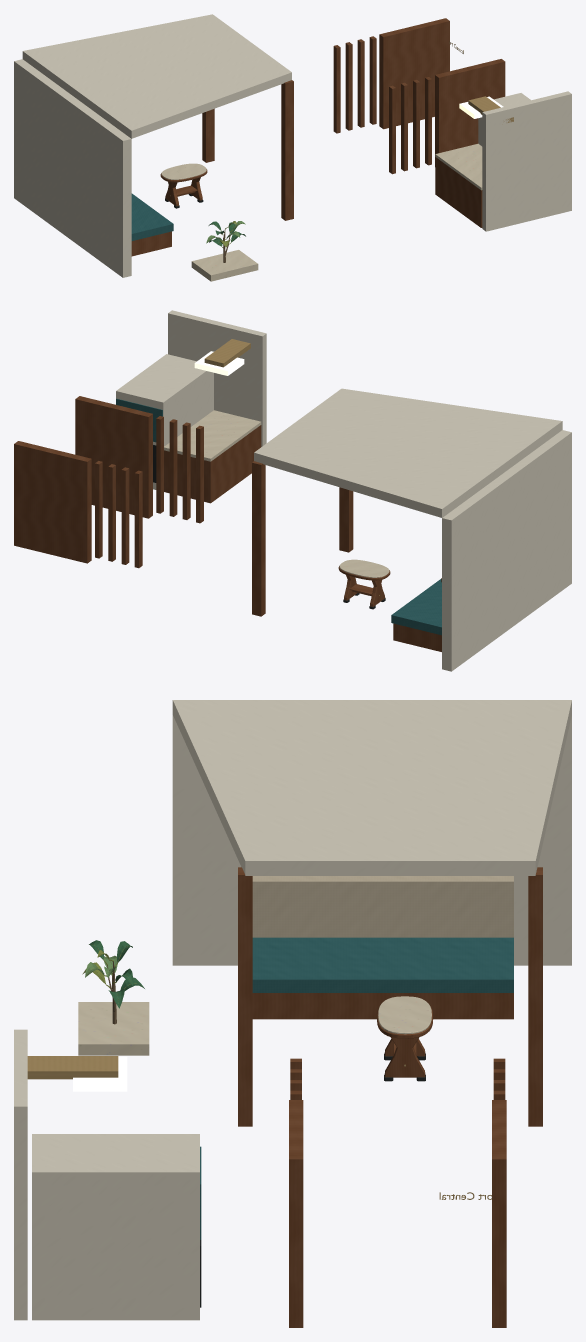
File: port_central_upper_house.glb
3 views of the same model, one above another, from view 1: azimuth 30°, elevation 25°; view 2: azimuth 150°, elevation 25°; view 3: azimuth 270°, elevation 25° (orthographic). The views are drawn at different scales.
Parts seen in each view (by area): view 1: QuietFanCover, QuietGalleryBacking, CareTaskBacking, InnerPrivacyReturn0, InnerPrivacyReturn1, CareWorkBay, FanBearingPost1, GalleryPlantPlinth, CareStoneSurface, FittedQuietBenchCushion, InnerScreenSlat0_0, InnerScreenSlat0_3 (+11 smaller); view 2: QuietFanCover, QuietGalleryBacking, InnerPrivacyReturn0, InnerPrivacyReturn1, CareTaskBacking, CareClosedStore, CareWorkBay, CareStoneSurface, FanBearingPost0, FittedQuietBenchCushion, FanBearingPost1, InnerScreenSlat0_3 (+11 smaller); view 3: QuietFanCover, CareClosedStore, QuietGalleryBacking, FittedQuietBenchBack, FittedQuietBenchCushion, FittedQuietBenchFoot, CareTaskBacking, FanBearingPost0, FanBearingPost1, GalleryPlantPlinth, InnerPrivacyReturn0, InnerPrivacyReturn1 (+4 smaller).
Boxes of the visible parts, <box> form: QuietFanCover: <box>22,14,291,138</box>; QuietGalleryBacking: <box>14,59,131,277</box>; CareTaskBacking: <box>482,91,571,231</box>; InnerPrivacyReturn0: <box>379,18,449,129</box>; InnerPrivacyReturn1: <box>435,59,505,166</box>; CareWorkBay: <box>435,157,482,227</box>; FanBearingPost1: <box>281,80,293,220</box>; GalleryPlantPlinth: <box>191,250,258,281</box>; CareStoneSurface: <box>435,143,482,190</box>; FittedQuietBenchCushion: <box>131,193,173,240</box>; InnerScreenSlat0_0: <box>369,36,376,124</box>; InnerScreenSlat0_3: <box>333,45,340,133</box>; QuietFanCover: <box>254,388,562,517</box>; QuietGalleryBacking: <box>442,430,571,671</box>; InnerPrivacyReturn0: <box>14,441,91,563</box>; InnerPrivacyReturn1: <box>75,396,152,518</box>; CareTaskBacking: <box>168,310,266,446</box>; CareClosedStore: <box>116,354,213,489</box>; CareWorkBay: <box>164,425,261,503</box>; CareStoneSurface: <box>164,410,261,461</box>; FanBearingPost0: <box>252,461,265,616</box>; FittedQuietBenchCushion: <box>391,579,441,635</box>; FanBearingPost1: <box>339,487,353,552</box>; InnerScreenSlat0_3: <box>134,470,142,568</box>; QuietFanCover: <box>172,700,571,875</box>; CareClosedStore: <box>32,1134,199,1320</box>; QuietGalleryBacking: <box>172,715,571,965</box>; FittedQuietBenchBack: <box>252,876,513,937</box>; FittedQuietBenchCushion: <box>252,937,513,992</box>; FittedQuietBenchFoot: <box>252,993,513,1019</box>; CareTaskBacking: <box>14,1029,27,1320</box>; FanBearingPost0: <box>528,867,542,1126</box>; FanBearingPost1: <box>238,867,252,1126</box>; GalleryPlantPlinth: <box>78,1002,149,1055</box>; InnerPrivacyReturn0: <box>492,1100,506,1327</box>; InnerPrivacyReturn1: <box>289,1100,303,1327</box>.
Bounding box in the file's own units: 9.65 × 3.23 × 6.15.
23 materials, 22 textured.
